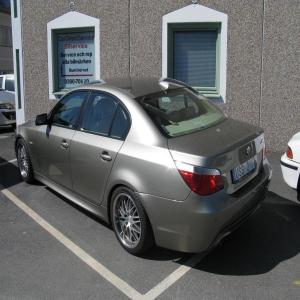Vehicle-registration-plate: (235, 155, 259, 190)
